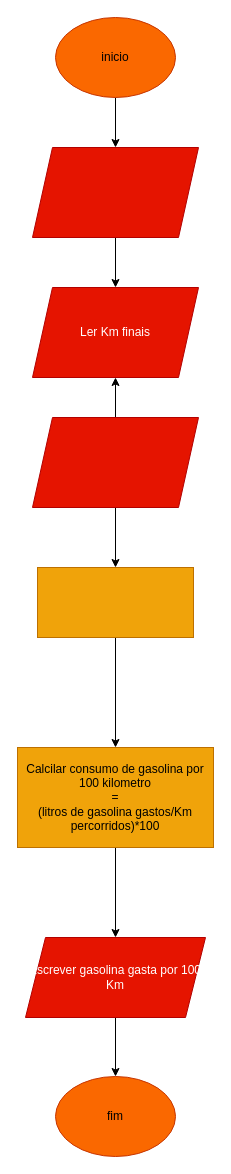
The diagram is 231 pixels wide and 1174 high, and some of its shapes have lost their labels. Here are the shapes that lost their labels. From the top down, the centre of each, then its label:
point 115,192: Ler Km iniciais
point 115,462: Ler litros de gasolina gastos
point 115,602: Calcular Km percorridos = (Km iniciais-Km finais)
